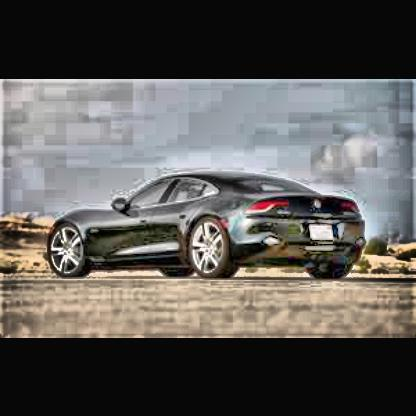Fisker Karma Sedan 2012: (47, 170, 370, 282)
